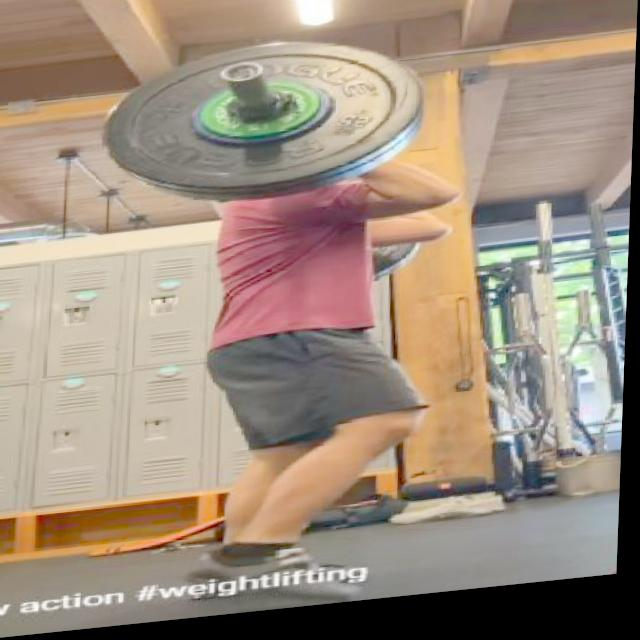barbell: (93, 30, 430, 212)
